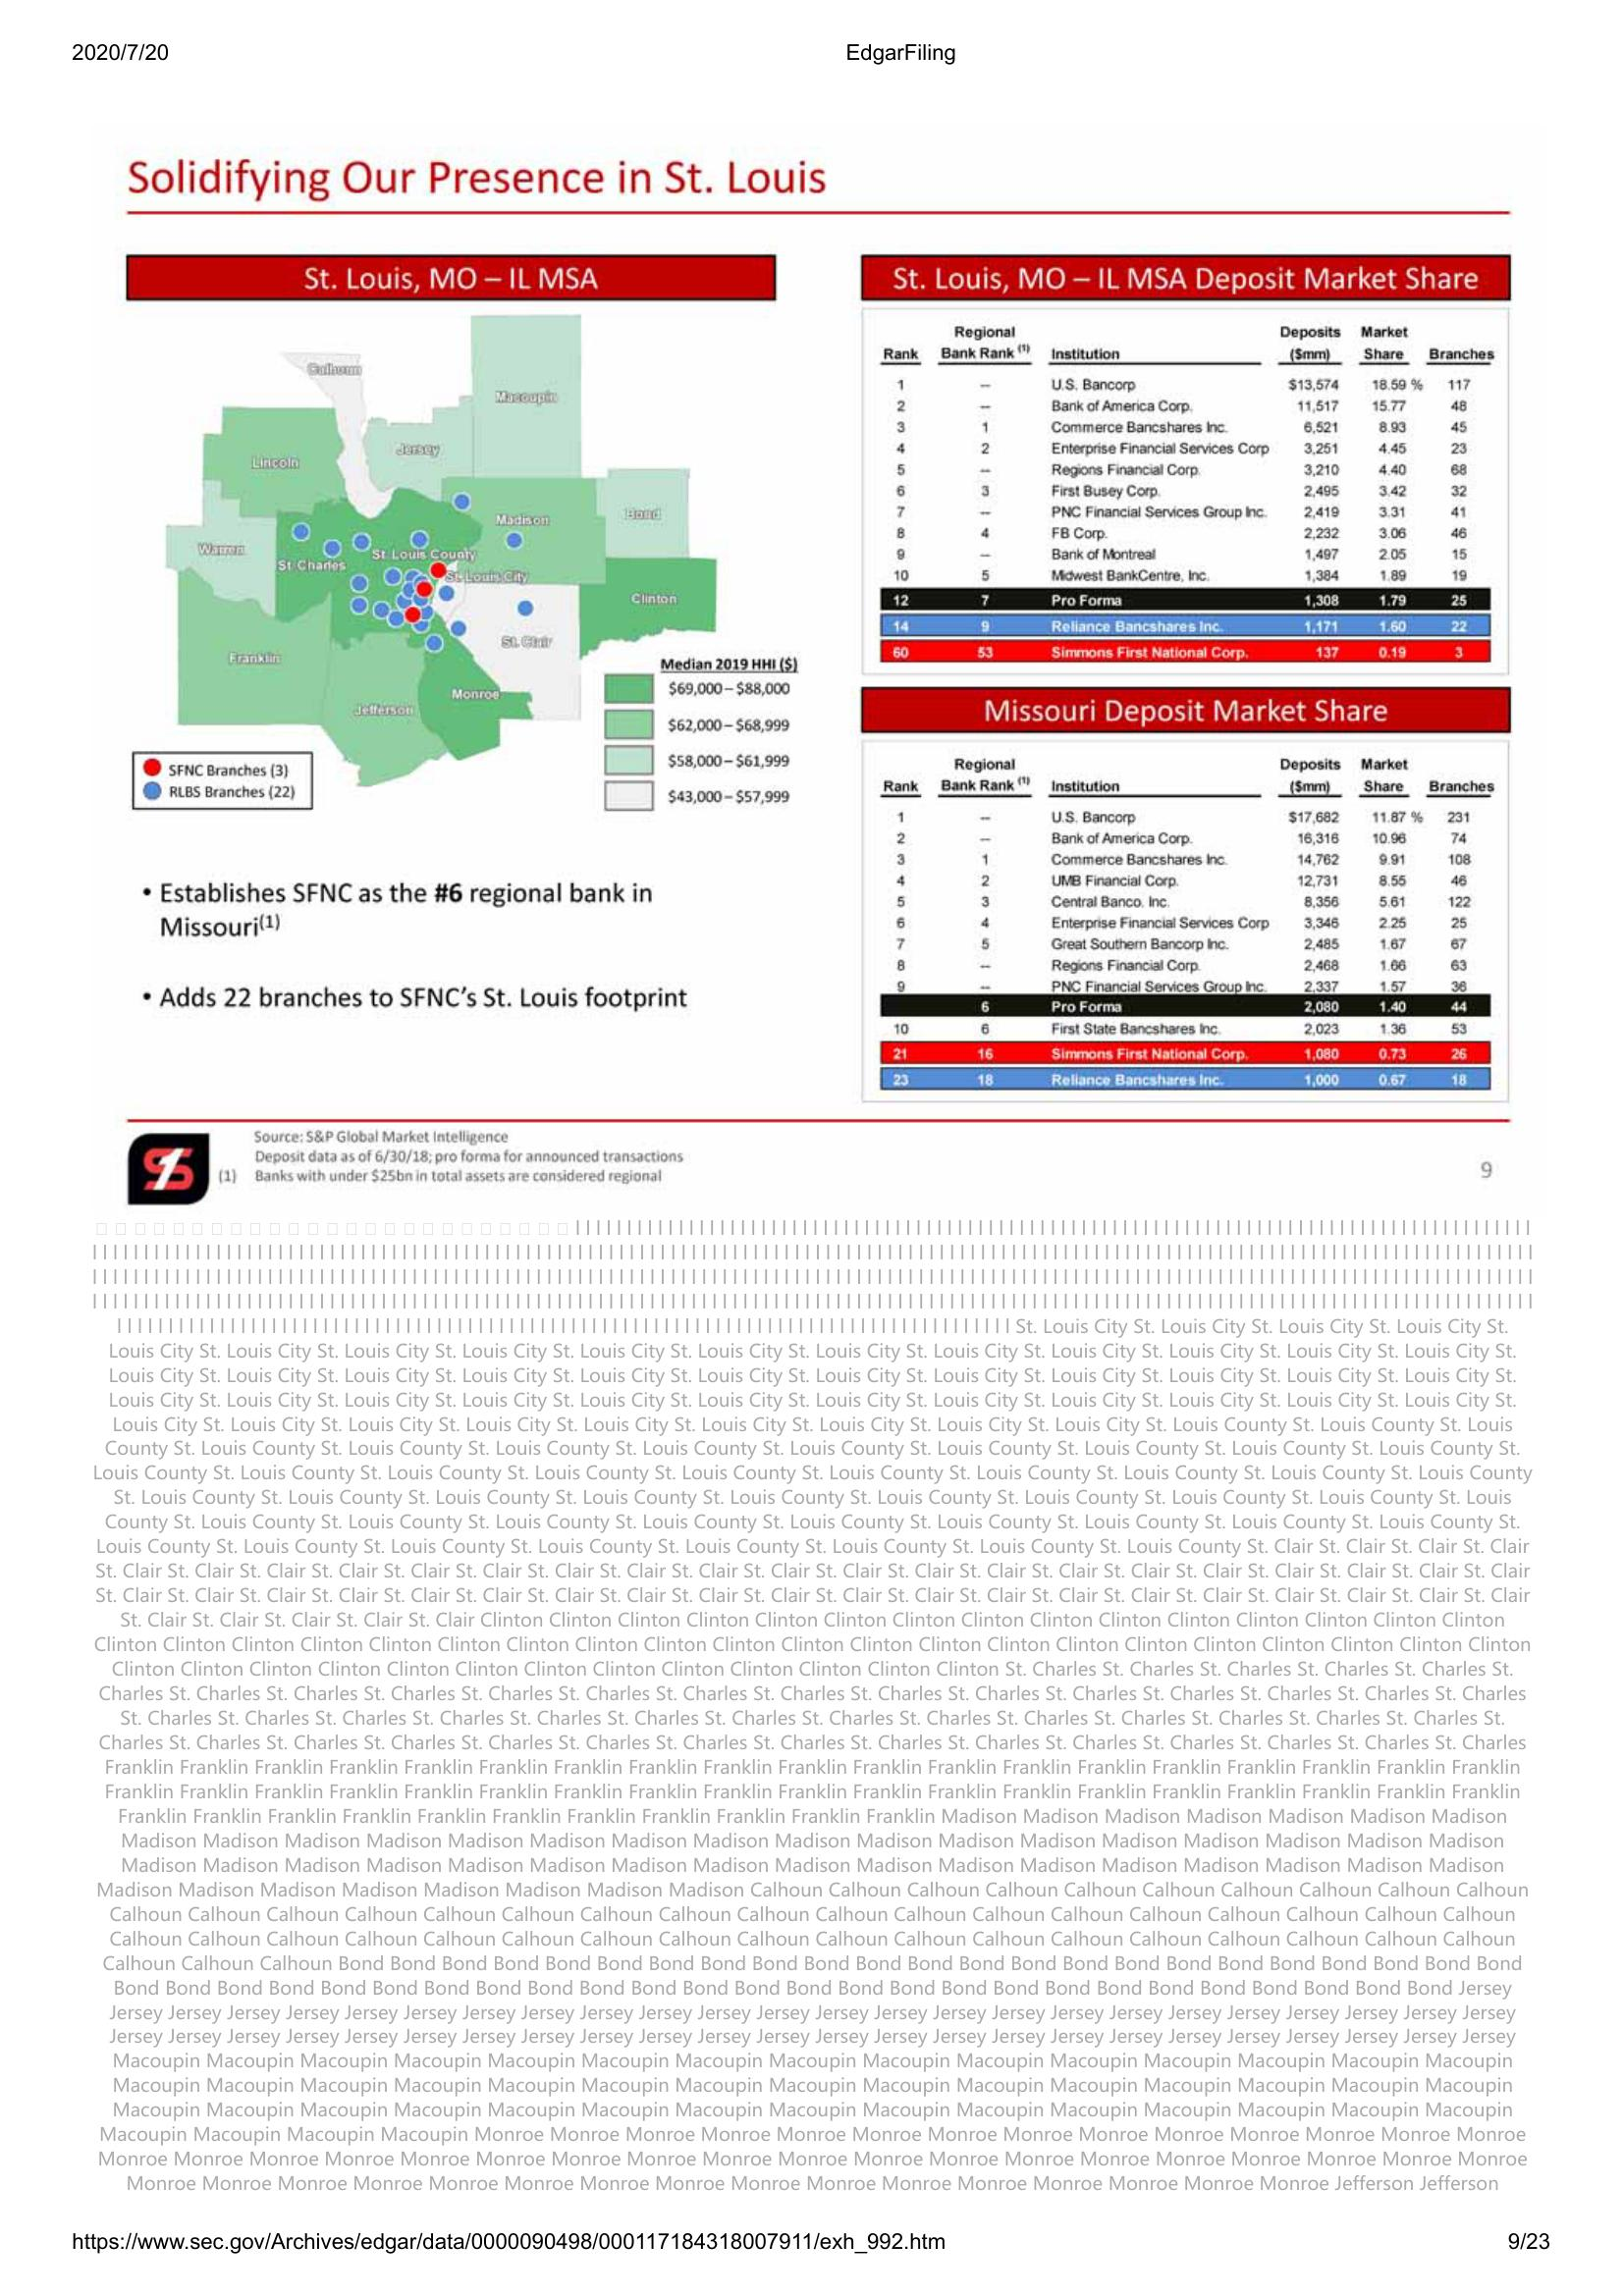table: (862, 739, 1511, 1116), (861, 298, 1511, 672)
